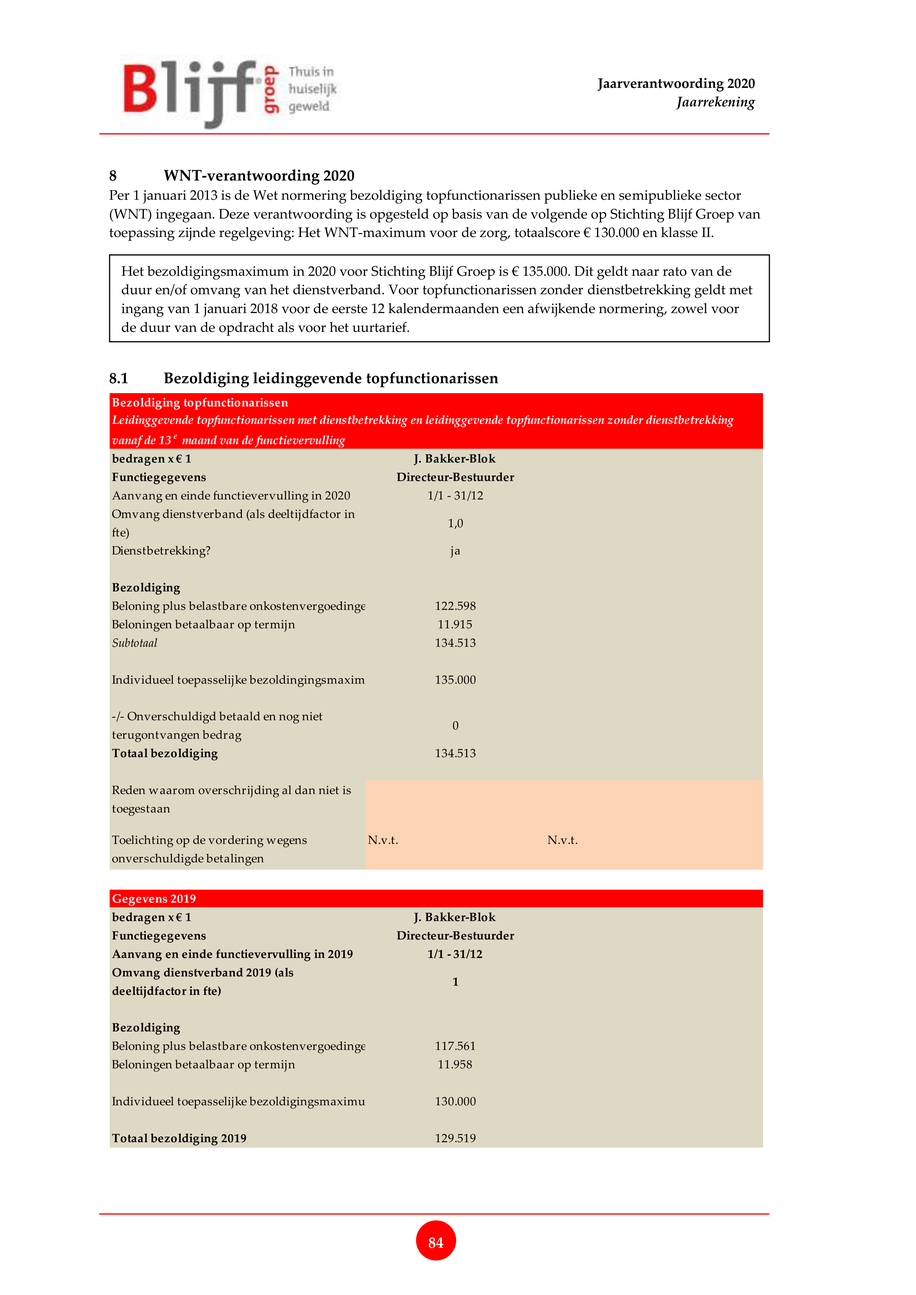coulmn: (107, 449, 364, 872), (361, 450, 517, 872), (109, 910, 373, 1150), (384, 909, 532, 1148)
